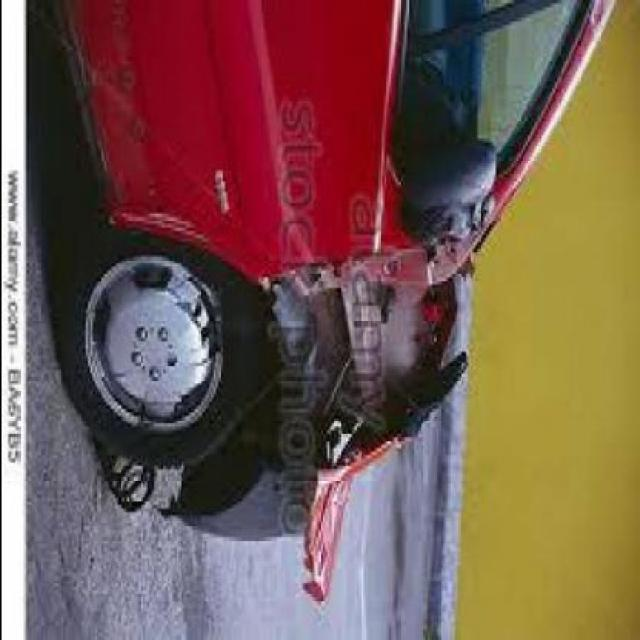damage: (143, 225, 481, 603)
